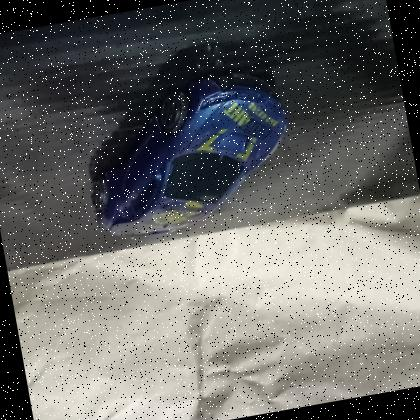Car: (92, 71, 288, 235)
